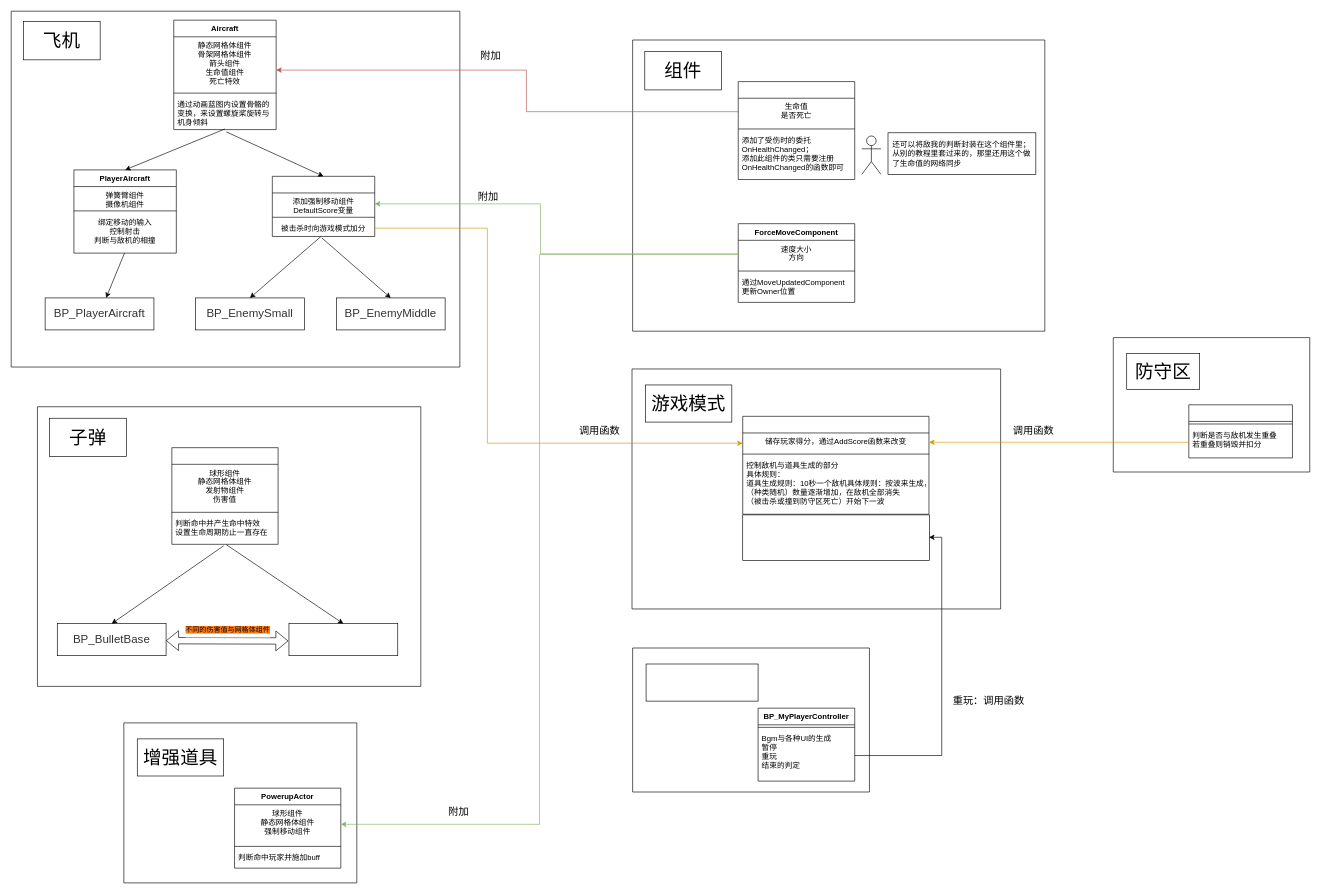
The diagram is 1321 pixels wide and 894 high, and some of its shapes have lost their labels. The box of each missing label's shape, as (x1, y1, x2, y2) in pixels:
BP_BulletPlus: (288, 623, 398, 656)
Bullet: (171, 447, 278, 544)
EnemyAircraft: (272, 176, 375, 236)
HealthComponent: (738, 81, 855, 180)
Home: (1188, 404, 1292, 458)
WarGameMode: (742, 416, 929, 514)
玩家控制器: (645, 663, 758, 701)
重玩： 函数StartGame 清除场景内所有物体与玩家数据 并控制生成玩家、敌机、道具: (742, 514, 930, 560)
